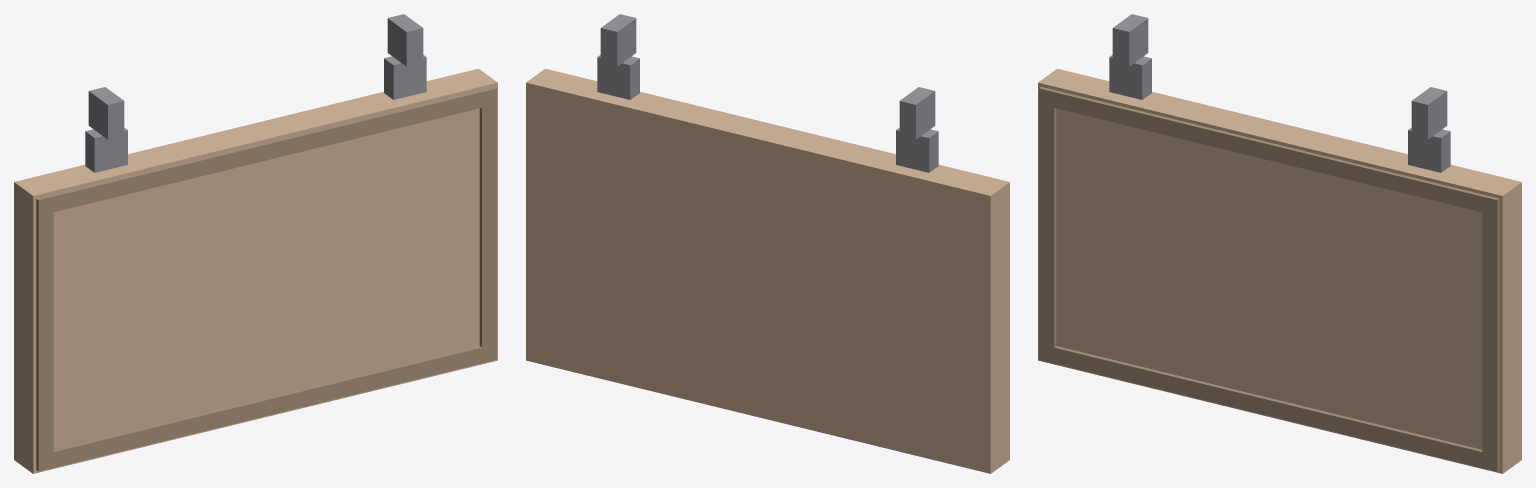
File: sign_jungle_hang.gltf
The picture shows the model from 3 angles, left to right: view 1: azimuth 30°, elevation 25°; view 2: azimuth 150°, elevation 25°; view 3: azimuth 330°, elevation 25°; orthographic projection.
Parts seen in each view (by area): view 1: sign_jungle_hang; view 2: sign_jungle_hang; view 3: sign_jungle_hang.
Boxes of the visible parts, box(x1,y1,x2,y2) form: sign_jungle_hang: box(14, 14, 497, 473); sign_jungle_hang: box(526, 14, 1009, 473); sign_jungle_hang: box(1038, 14, 1521, 473).
Bounding box in the file's own units: 0.875 × 0.631 × 0.07.
